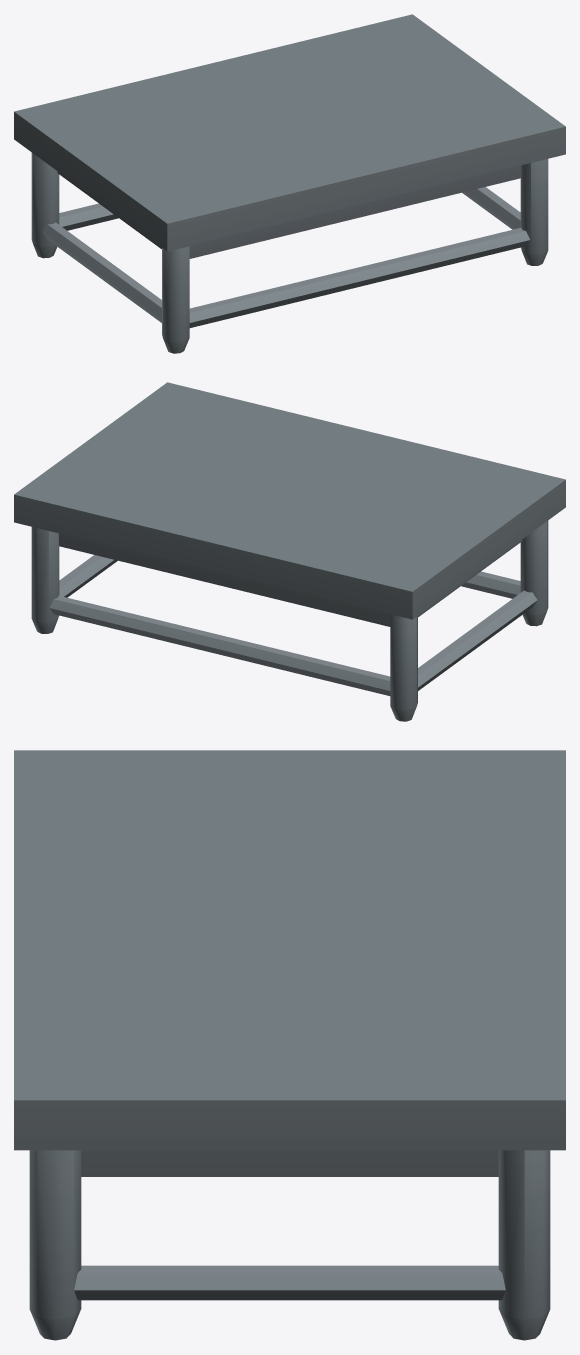
The model's file is kitchentable-a-large.glb.
The picture shows the model from 3 angles, top to bottom: view 1: azimuth 30°, elevation 25°; view 2: azimuth 150°, elevation 25°; view 3: azimuth 270°, elevation 25°; orthographic projection. The views are drawn at different scales.
Parts seen in each view (by area): view 1: kitchentable_A_large; view 2: kitchentable_A_large; view 3: kitchentable_A_large.
Part boxes in pixels (x1,y1,x2,y2): kitchentable_A_large: (14,14,565,353); kitchentable_A_large: (14,382,565,721); kitchentable_A_large: (14,750,565,1340).
Bounding box in the file's own units: 3 × 1 × 2.
Materials: 1 (1 with a texture image).
